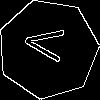V: (23, 24, 74, 64)
